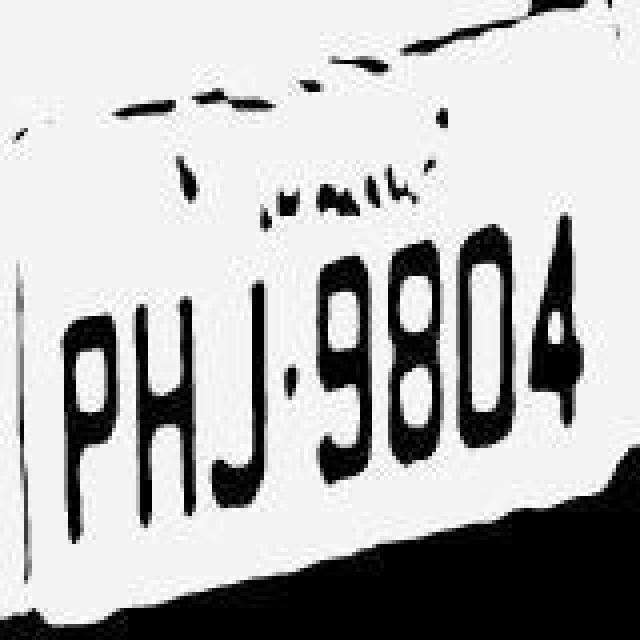4: (518, 208, 594, 472)
8: (380, 226, 452, 494)
9: (308, 232, 380, 512)
H: (130, 256, 206, 528)
J: (204, 252, 276, 516)
O: (448, 214, 520, 490)
P: (44, 282, 124, 550)
